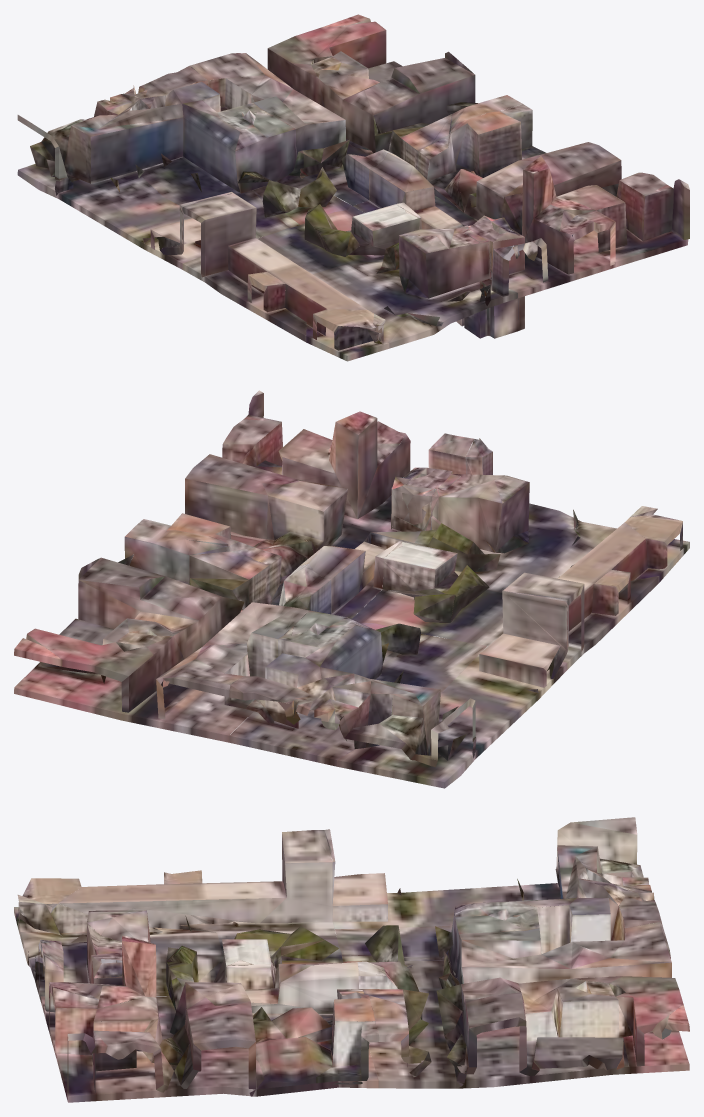
3 views of the same model, one above another, from view 1: azimuth 30°, elevation 25°; view 2: azimuth 150°, elevation 25°; view 3: azimuth 270°, elevation 25° (orthographic). The views are drawn at different scales.
Visible parts, largest first — view 1: Mesh_0; view 2: Mesh_0; view 3: Mesh_0.
Part boxes in pixels (x1=…): Mesh_0: x1=17, y1=14, x2=689, y2=361; Mesh_0: x1=14, y1=390, x2=689, y2=788; Mesh_0: x1=14, y1=817, x2=689, y2=1102.
Size of the model in its own units: 270 by 86.81 by 330.
2 materials, 2 textured.
